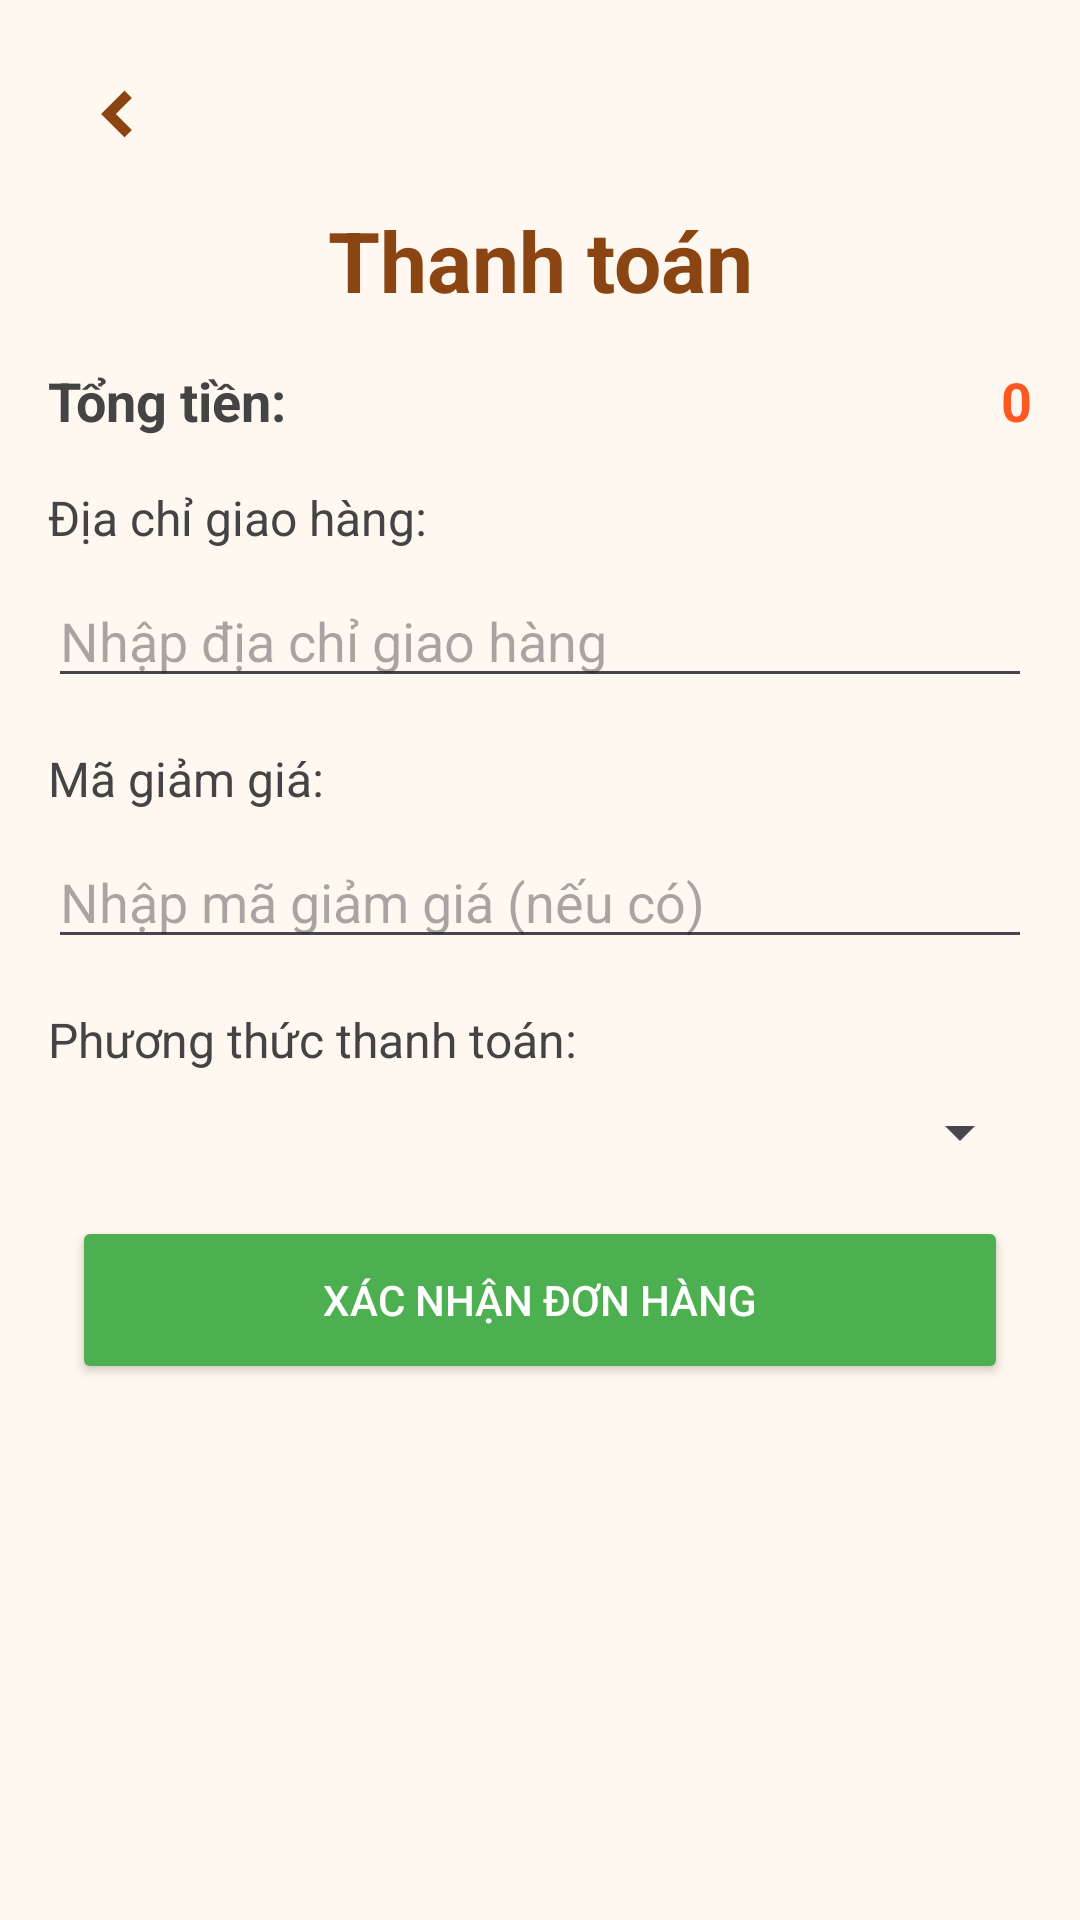

Point at icon controls on the screen. Image size 1080w x 1920h, points as (x=x, y=y).
Quay lại: (x=116, y=114)
